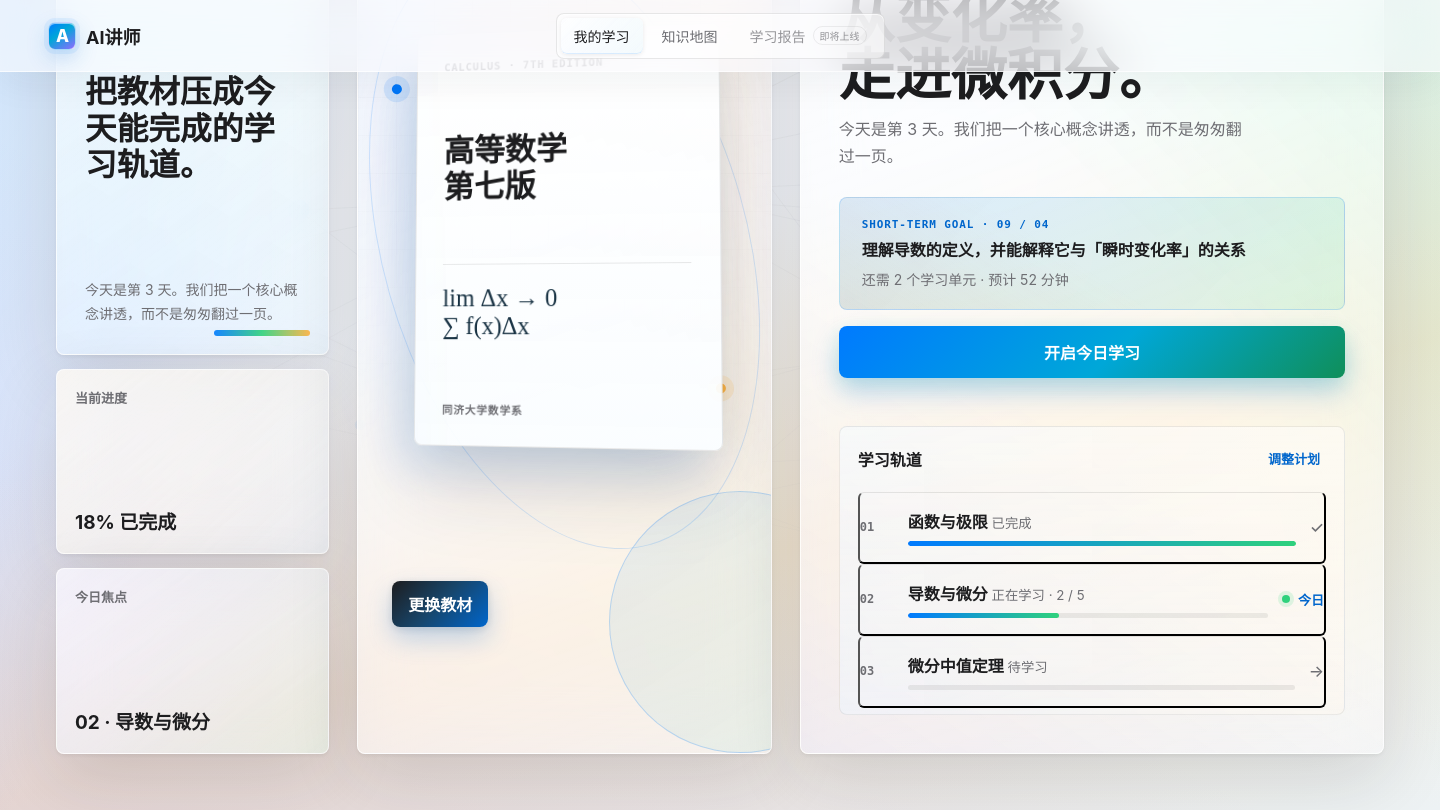
主页 › 更换教材后主页同步更新
(page scrolled)
Click the button "更换教材": x=440, y=604 [392,581,488,627]
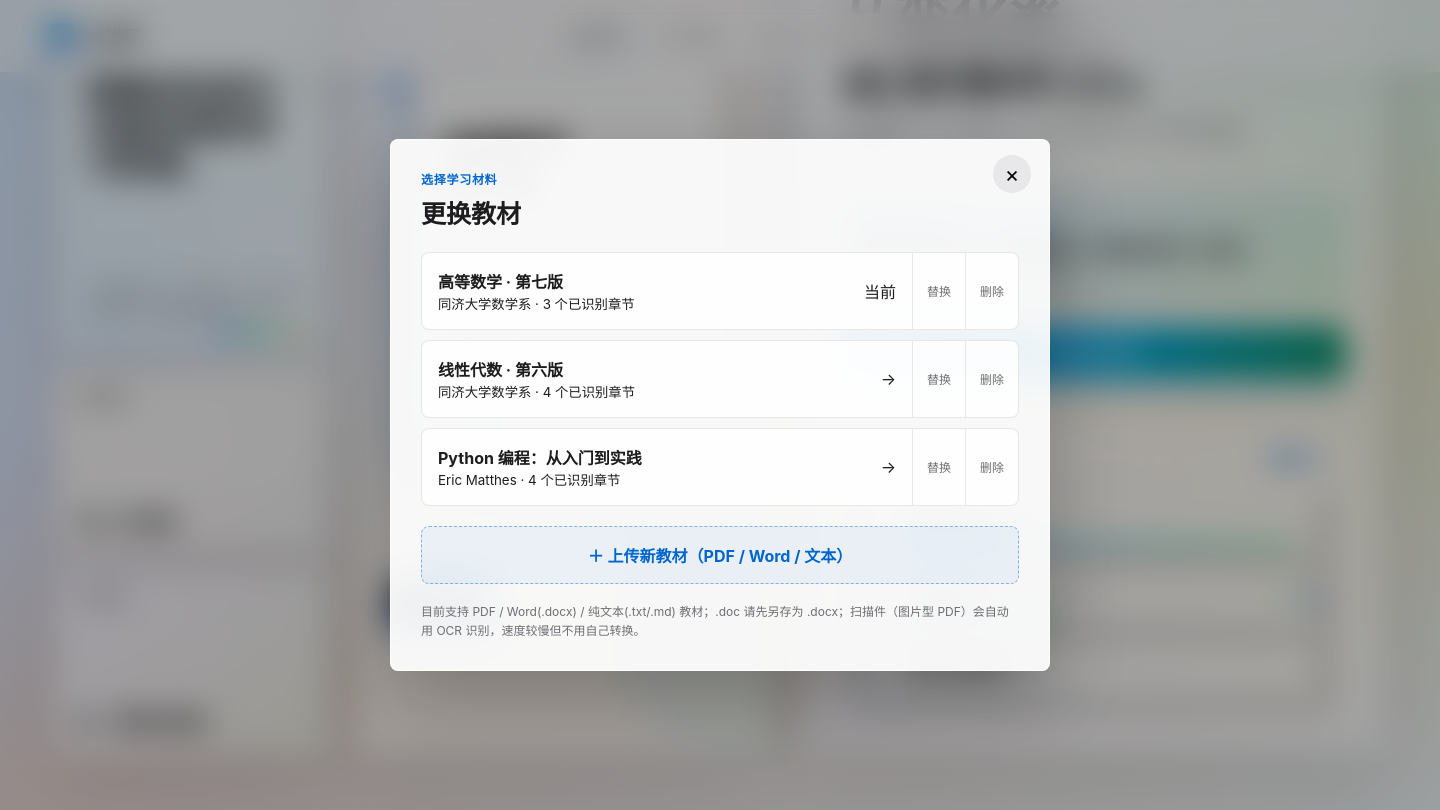
# 按 testid 取而不是按书名：行里现在还有一个「删除《线性代数》」按钮，按书名会命中两个
Click the button with test id "book-choice-linalg6": x=500, y=370 [422,341,912,417]
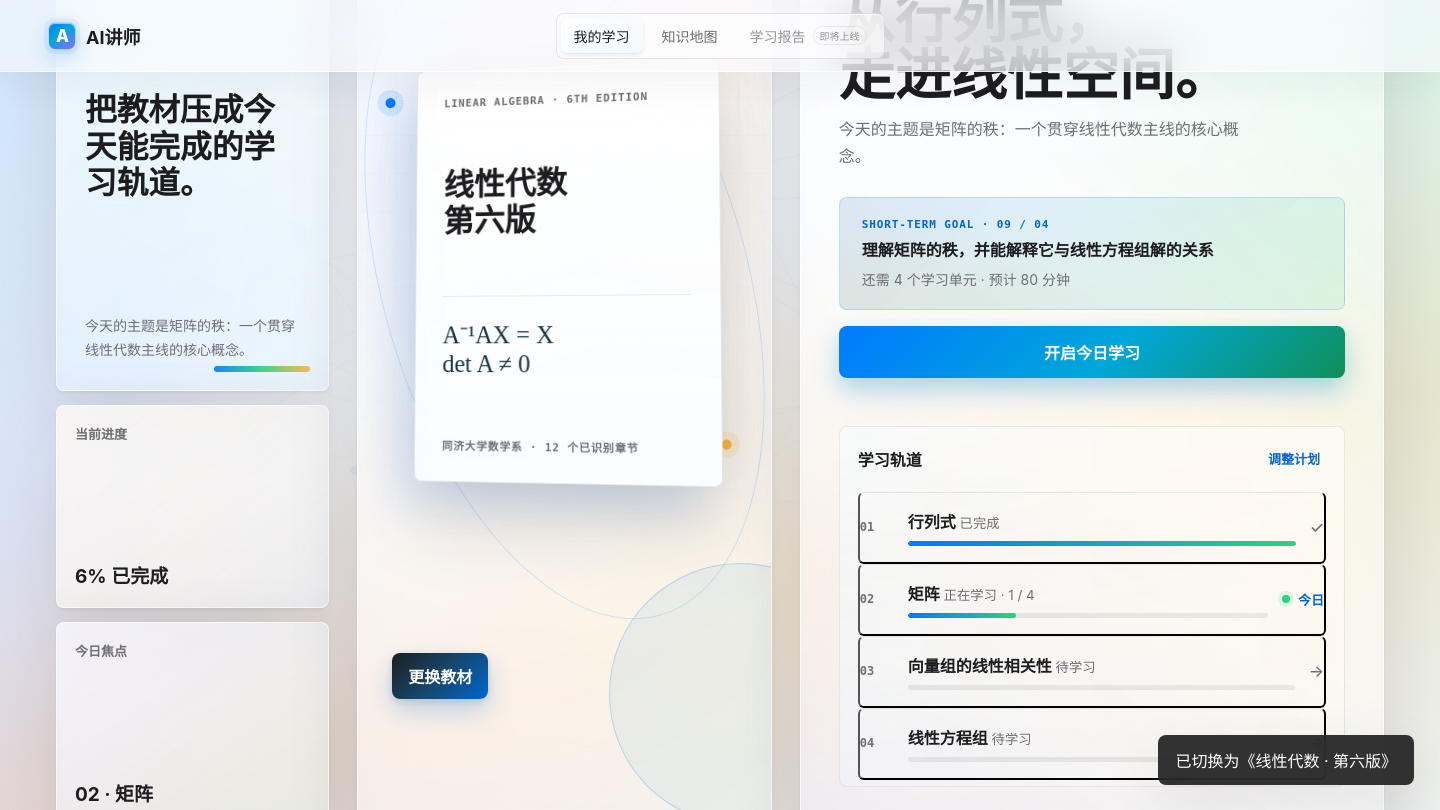
Expected: the element with test id "book-cover" shows "线性代数", [443,163,566,204]
